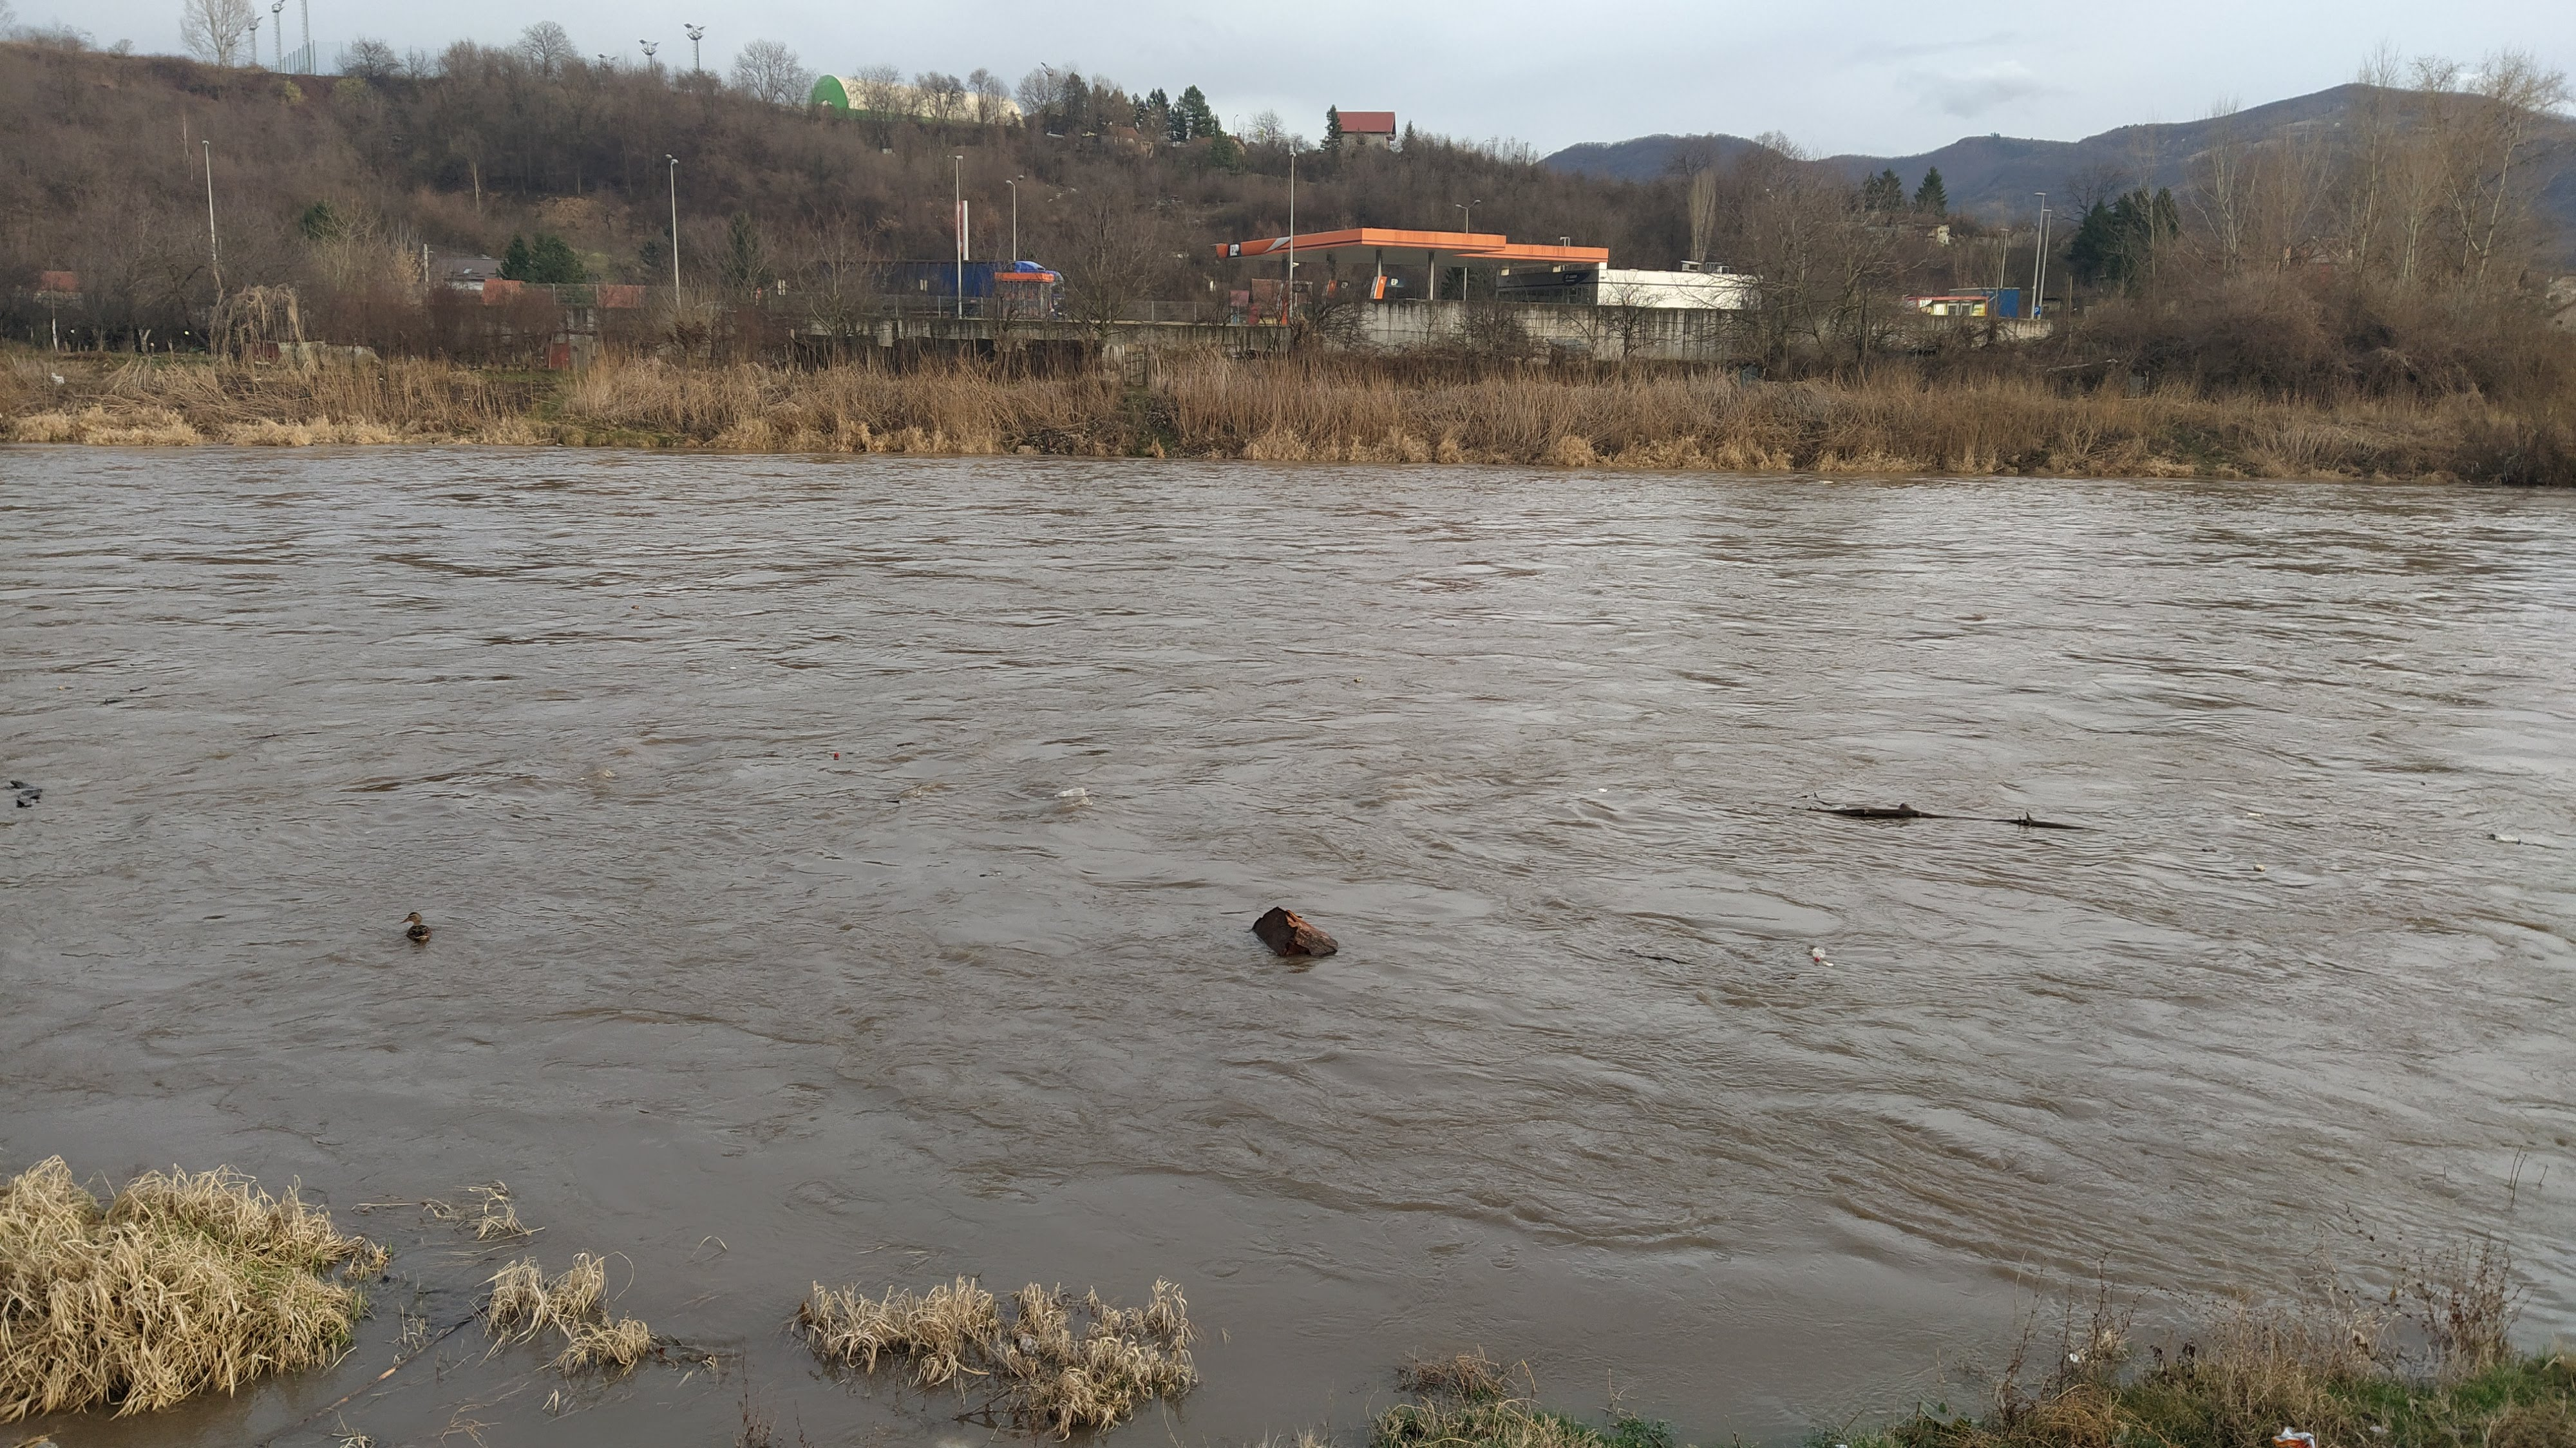Plastic Bottle: (1016, 1331, 1037, 1354), (1054, 786, 1085, 797), (1812, 947, 1826, 963), (2498, 836, 2521, 844), (34, 1441, 55, 1448), (2247, 813, 2265, 818), (1598, 788, 1608, 791)
